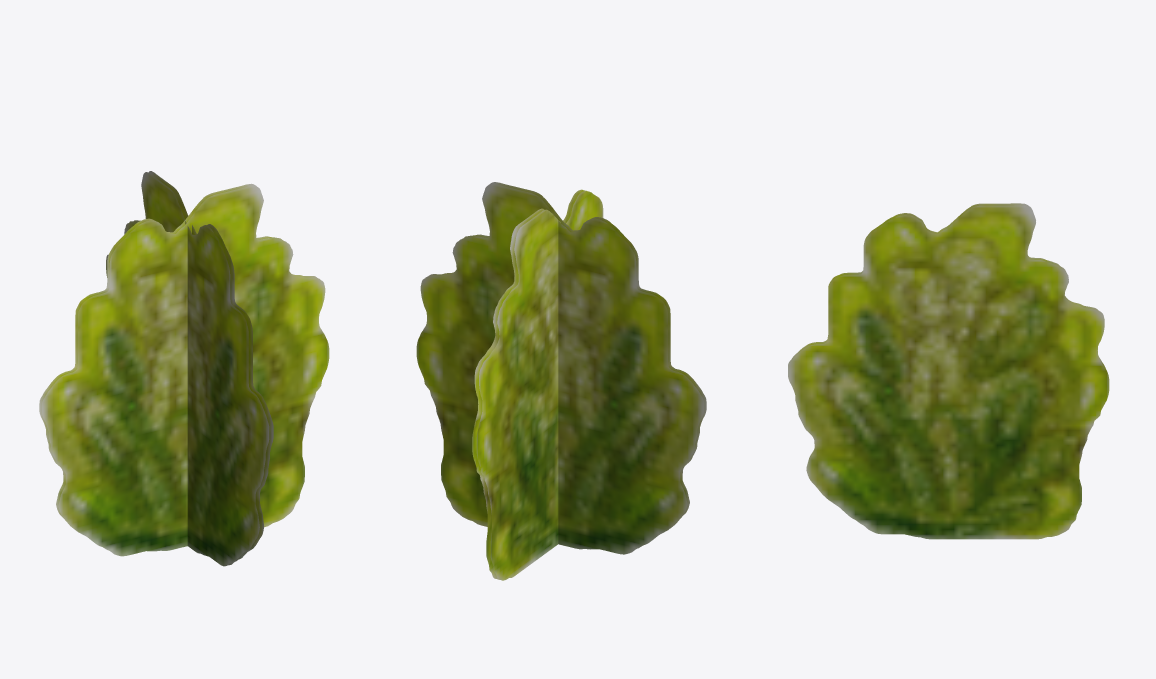
Rendered from Bush7.fbx.
3 views of the same model, side by side, from view 1: azimuth 30°, elevation 25°; view 2: azimuth 150°, elevation 25°; view 3: azimuth 270°, elevation 25° (orthographic). The views are drawn at different scales.
Visible parts, largest first — view 1: Bush7; view 2: Bush7; view 3: Bush7.
Part boxes in pixels (x1,y1,x2,y2): Bush7: [39, 171, 329, 566]; Bush7: [416, 182, 706, 580]; Bush7: [788, 203, 1109, 539].
Size of the model in its own units: 318 by 450 by 318.
Materials: 1 (1 with a texture image).
